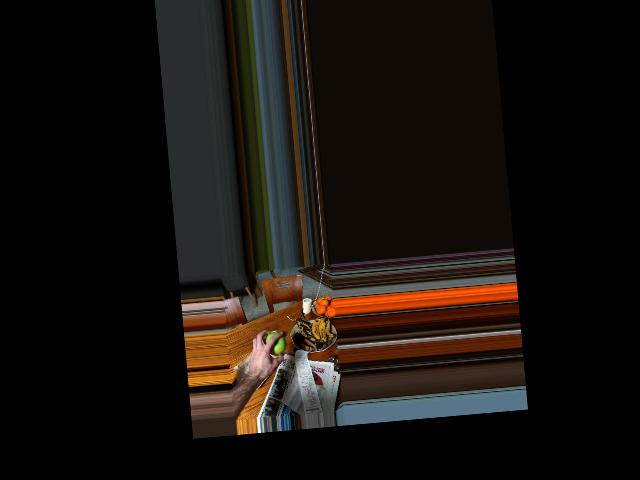apple: (263, 330, 286, 357)
